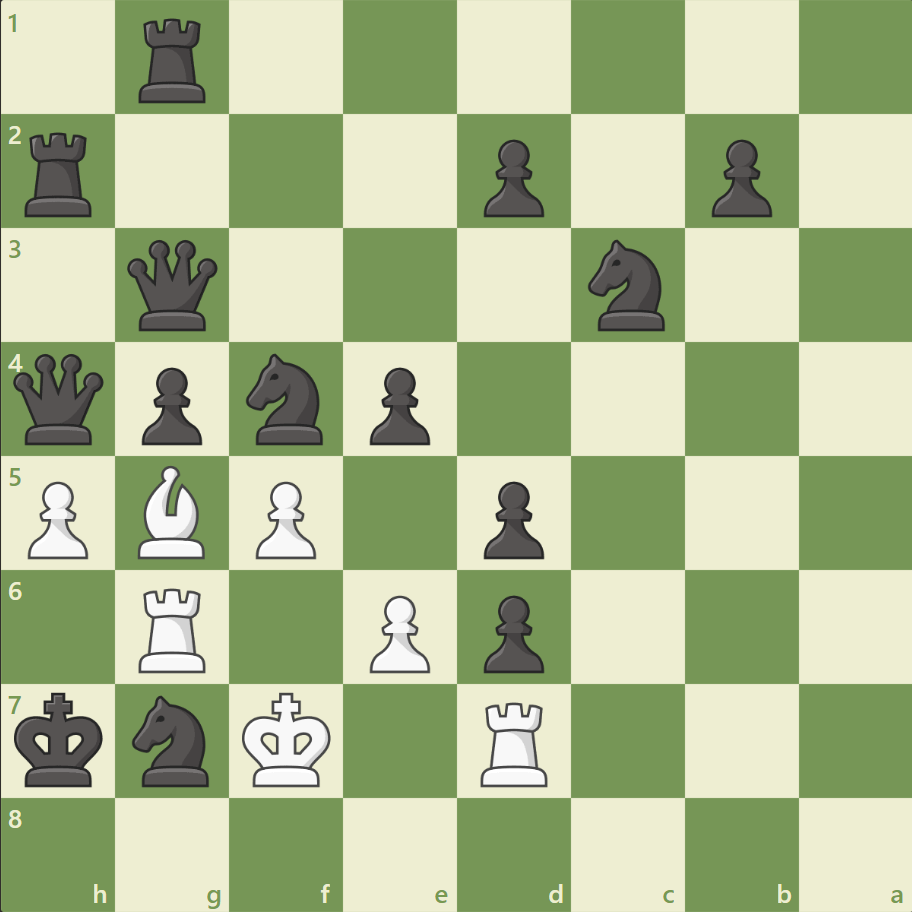B: (131, 460, 215, 563)
K: (238, 685, 338, 793)
P: (247, 473, 322, 564), (20, 473, 95, 564), (361, 586, 435, 677)
R: (473, 693, 556, 790), (133, 579, 215, 676)
k: (11, 685, 111, 793)
n: (124, 688, 222, 791), (579, 234, 676, 337), (238, 348, 335, 450)
p: (474, 586, 549, 677), (474, 473, 549, 564), (133, 359, 208, 450), (701, 132, 776, 223), (474, 132, 549, 223), (361, 359, 435, 450)
q: (10, 349, 109, 449), (124, 236, 223, 335)
r: (19, 125, 102, 222), (133, 12, 215, 109)
